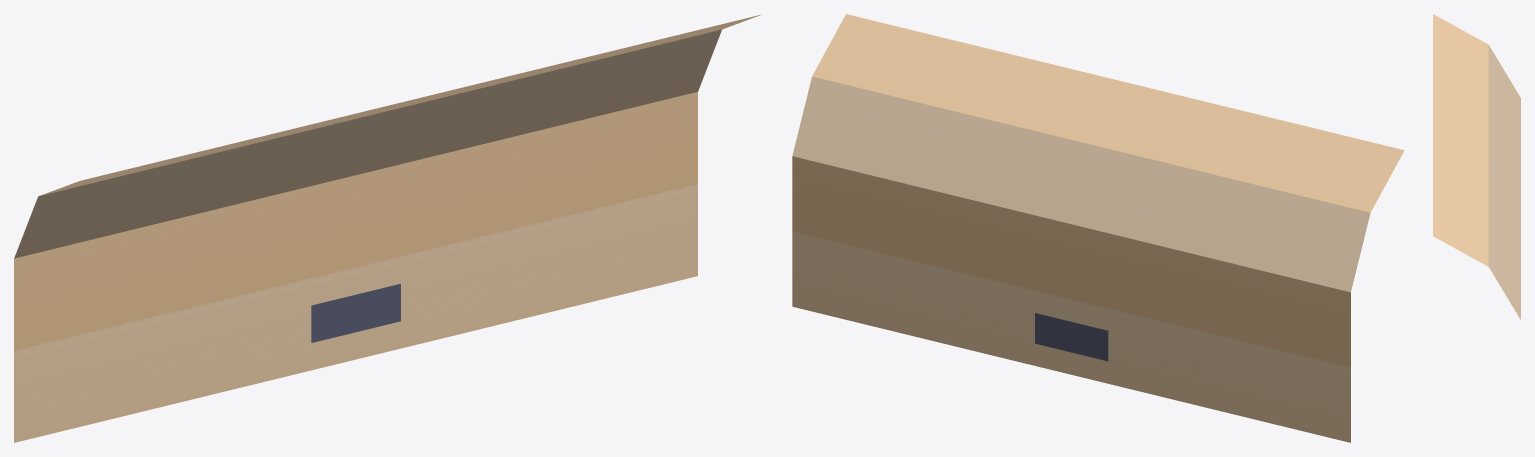
File: door-wide-open.glb
3 views of the same model, side by side, from view 1: azimuth 30°, elevation 25°; view 2: azimuth 150°, elevation 25°; view 3: azimuth 270°, elevation 25° (orthographic). The views are drawn at different scales.
Parts seen in each view (by area): view 1: door-wide-open; view 2: door-wide-open; view 3: door-wide-open.
Boxes of the visible parts, x1,y1,x2,y2 form: door-wide-open: (14,14,762,442); door-wide-open: (792,14,1404,442); door-wide-open: (1433,14,1520,319).
Bounding box in the file's own units: 1.8 × 0.7802 × 0.3.
Materials: 1 (1 with a texture image).
